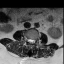CCS_normal: (30, 36, 32, 46)
LFS_normal: (34, 36, 36, 44)
LLS_normal: (32, 36, 34, 44)
RFS_normal: (26, 35, 28, 43)
RLS_normal: (28, 36, 30, 44)
